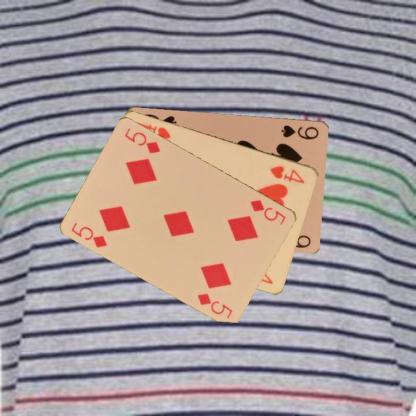4h: (268, 163, 306, 185)
5d: (248, 197, 288, 226), (69, 220, 109, 249)
9s: (279, 122, 320, 140)
